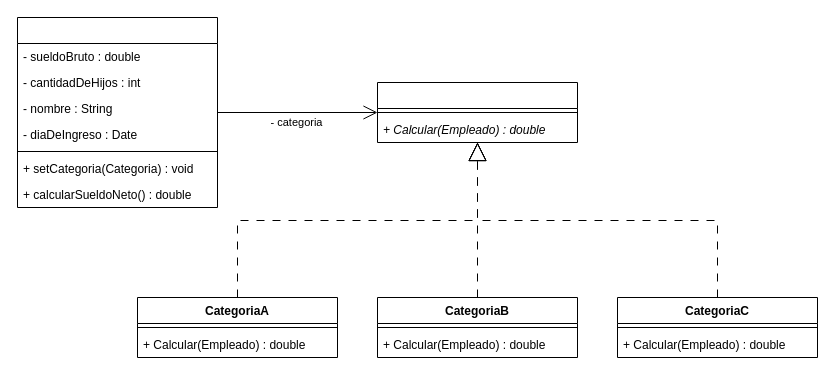
Some shapes in this 835 by 378 pixel diagram are drawn without their labels. The box of each missing label's shape, as (x1, y1, x2, y2) in pixels:
Categoria: (376, 82, 578, 142)
Empleado: (16, 16, 218, 208)
